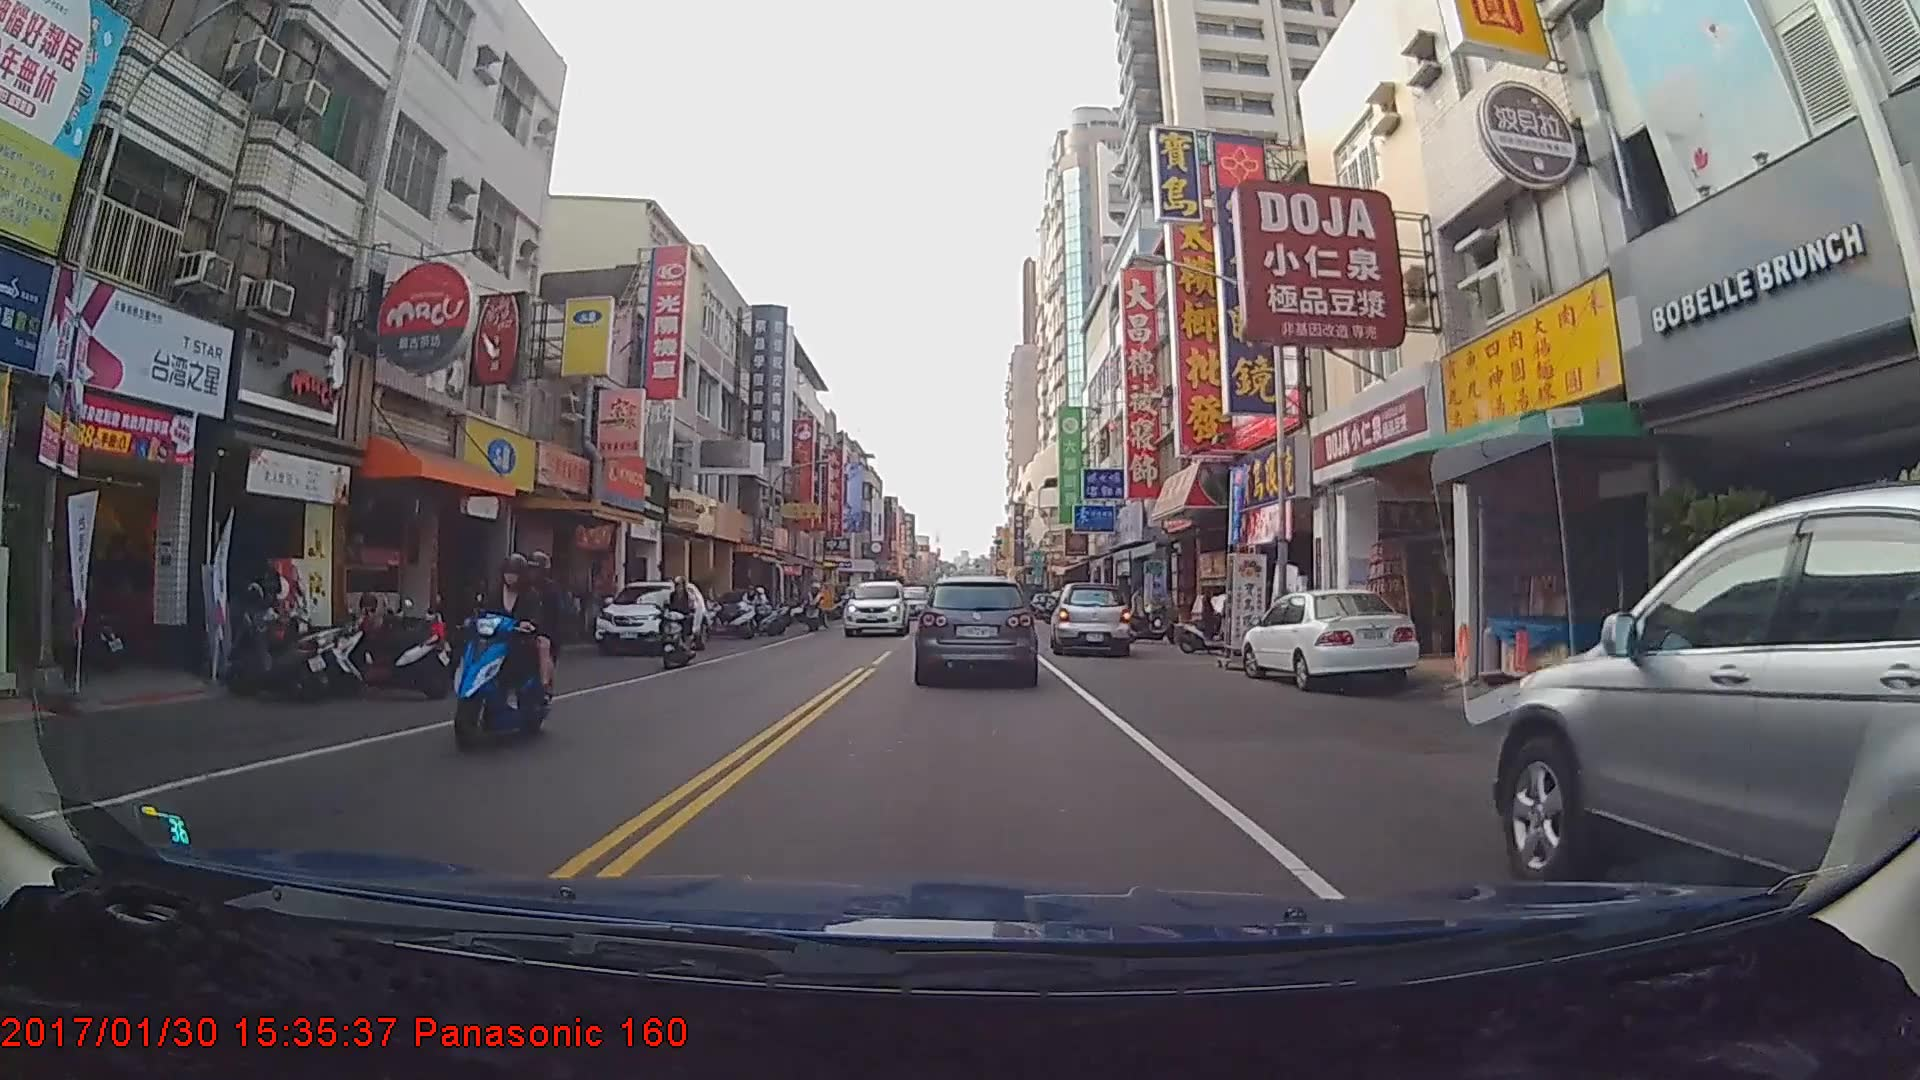rider: (458, 548, 570, 753), (1179, 585, 1245, 655), (659, 570, 703, 665)
vehicle: (1491, 482, 1920, 1006), (1243, 582, 1419, 683), (916, 576, 1036, 681), (593, 578, 708, 654), (1050, 580, 1131, 653), (842, 578, 910, 637)
